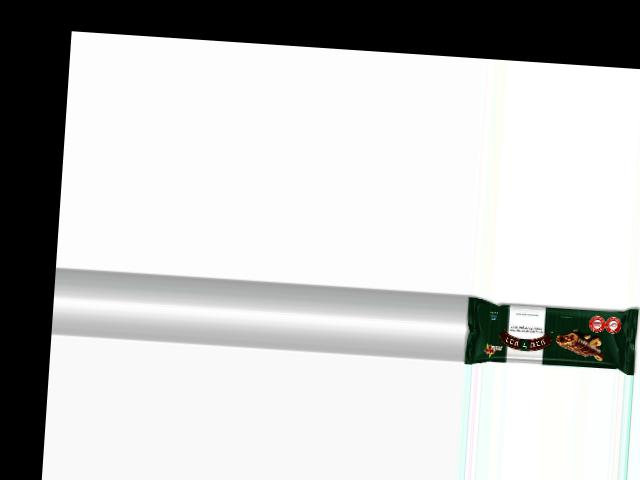chocolate: (461, 293, 640, 375)
